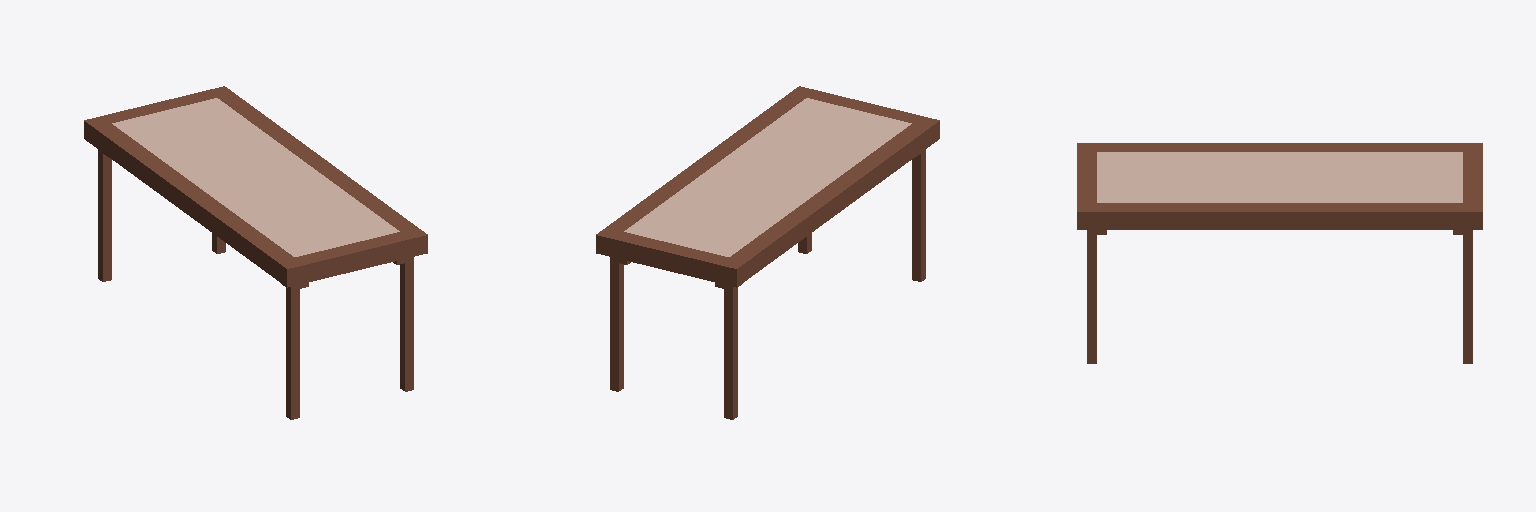
3 views of the same model, side by side, from view 1: azimuth 30°, elevation 25°; view 2: azimuth 150°, elevation 25°; view 3: azimuth 270°, elevation 25° (orthographic).
Parts seen in each view (by area): view 1: object 1; view 2: object 1; view 3: object 1.
Part boxes in pixels (x1,y1,x2,y2): object 1: (84,86,427,419); object 1: (596,86,939,419); object 1: (1077,143,1482,363).
Size of the model in its own units: 1.6 by 1.7 by 4.
Materials: 1 (1 with a texture image).